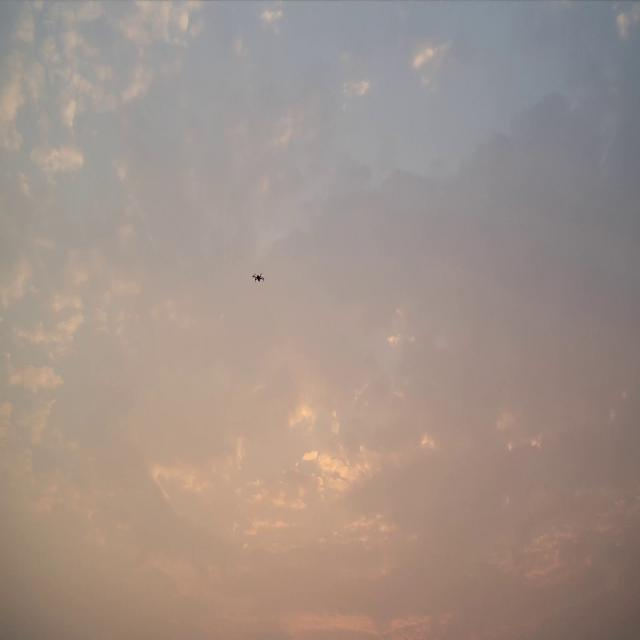drone: (252, 272, 265, 282)
